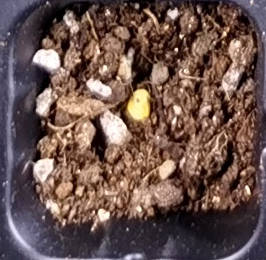chilli seed: (126, 89, 149, 121)
